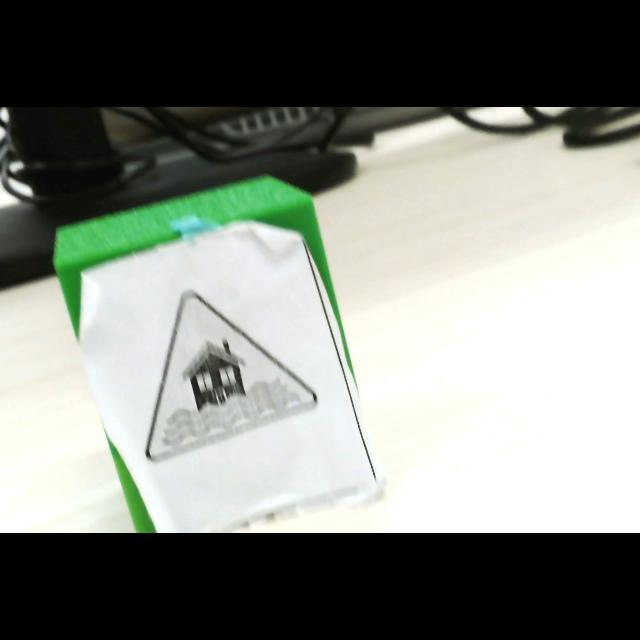Tsunami: (145, 291, 318, 461)
